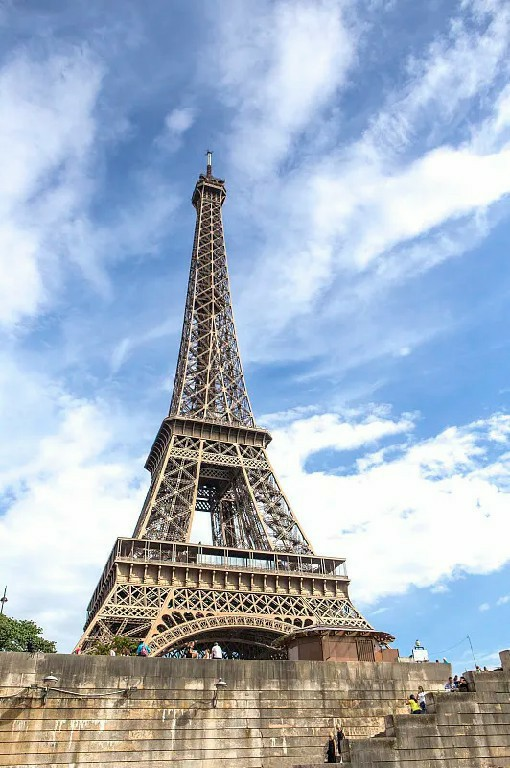Eiffel: (73, 149, 375, 662)
